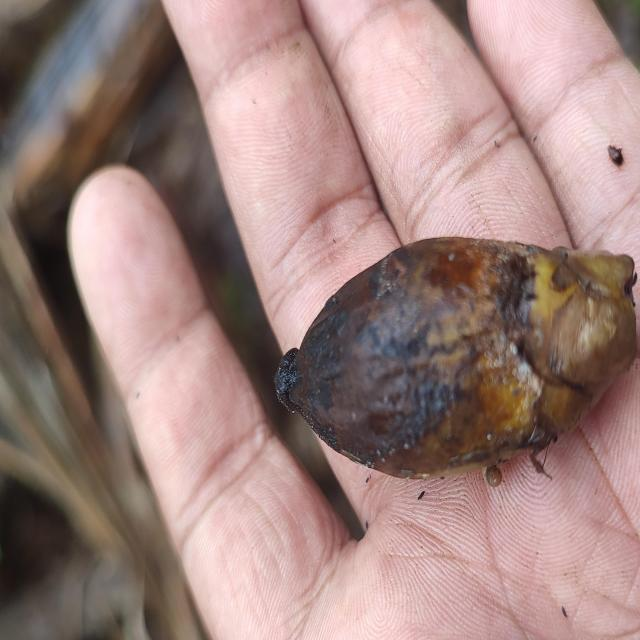damaged: (275, 238, 636, 477)
